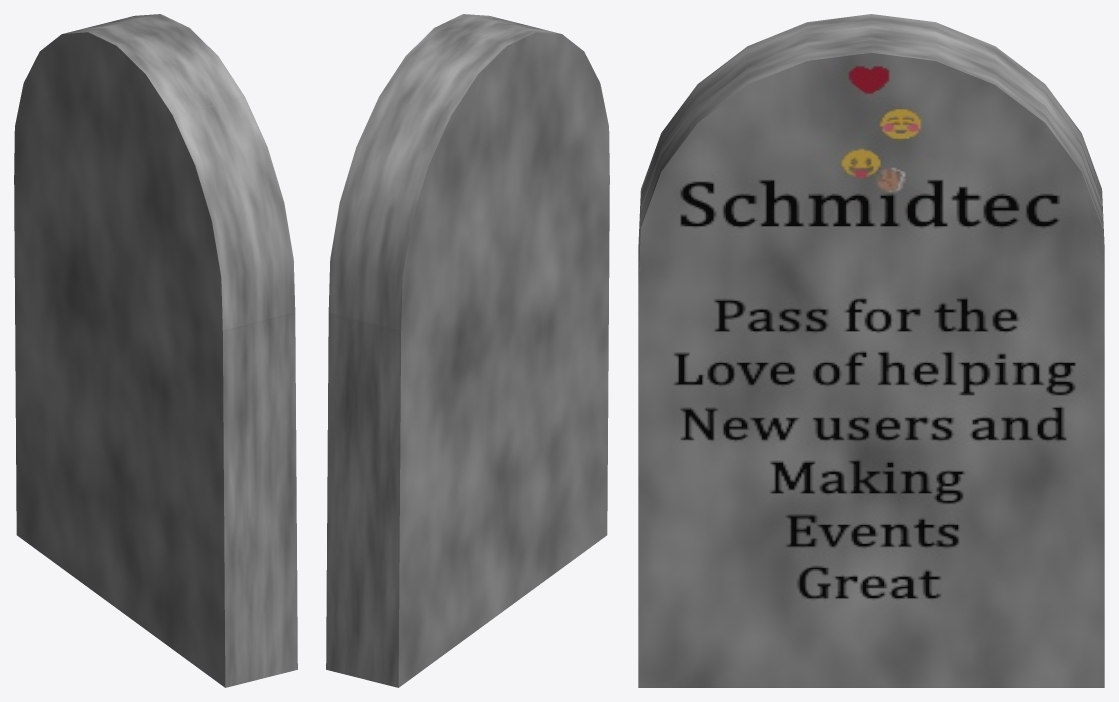
Rendered from Gravestone.schmitty.dae.
The picture shows the model from 3 angles, left to right: view 1: azimuth 30°, elevation 25°; view 2: azimuth 150°, elevation 25°; view 3: azimuth 270°, elevation 25°; orthographic projection. The views are drawn at different scales.
Visible parts, largest first — view 1: SketchUp; view 2: SketchUp; view 3: SketchUp.
Boxes of the visible parts, box(x1,y1,x2,y2) form: SketchUp: box(14, 14, 297, 687); SketchUp: box(326, 14, 609, 687); SketchUp: box(638, 14, 1104, 687).
Size of the model in its own units: 0.0341 by 0.161 by 0.2413.
Materials: 1 (1 with a texture image).
